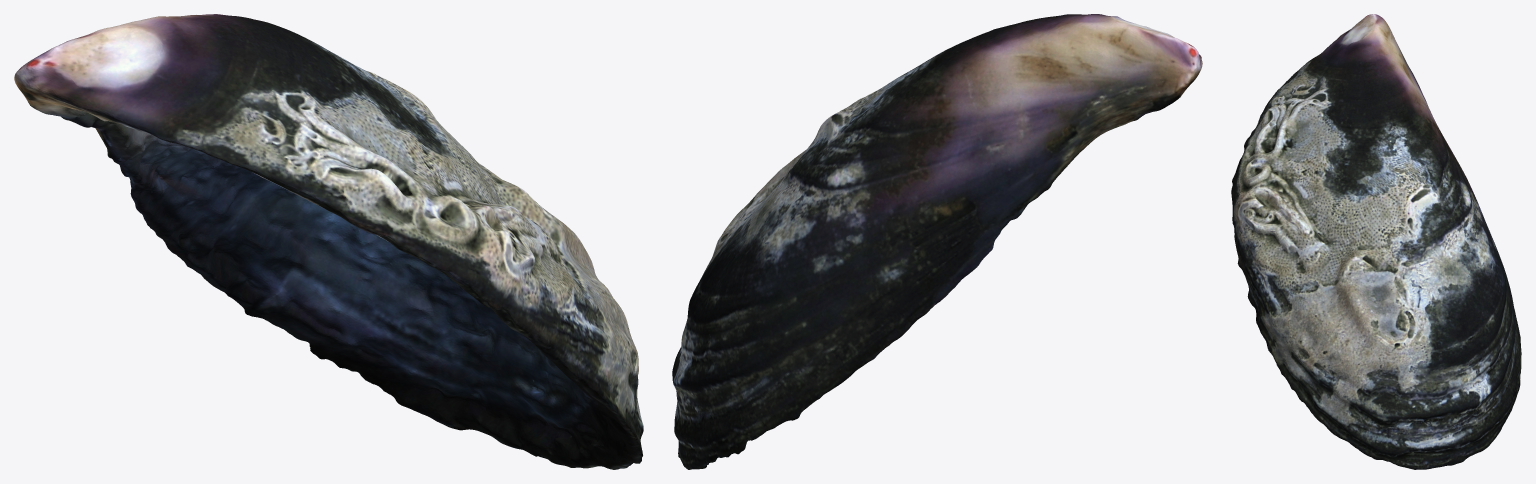
The model's file is MZUR3D-003.glb.
3 renders of one model, left to right at view 1: azimuth 30°, elevation 25°; view 2: azimuth 150°, elevation 25°; view 3: azimuth 270°, elevation 25°, orthographic. The views are drawn at different scales.
Visible parts, largest first — view 1: MZUR3D-003; view 2: MZUR3D-003; view 3: MZUR3D-003.
Part boxes in pixels (bbox=[...]): MZUR3D-003: bbox=[14, 14, 643, 469]; MZUR3D-003: bbox=[672, 14, 1202, 469]; MZUR3D-003: bbox=[1231, 14, 1521, 469].
Bounding box in the file's own units: 0.4777 × 0.4464 × 0.3739.
Materials: 1 (1 with a texture image).
